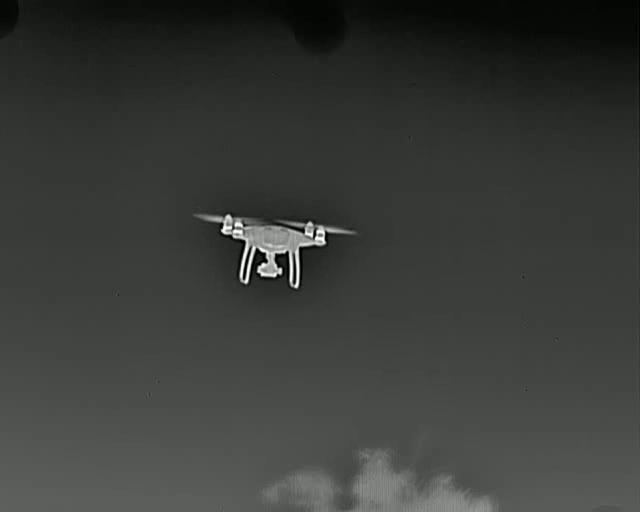DJI-Phantom: (196, 206, 357, 290)
